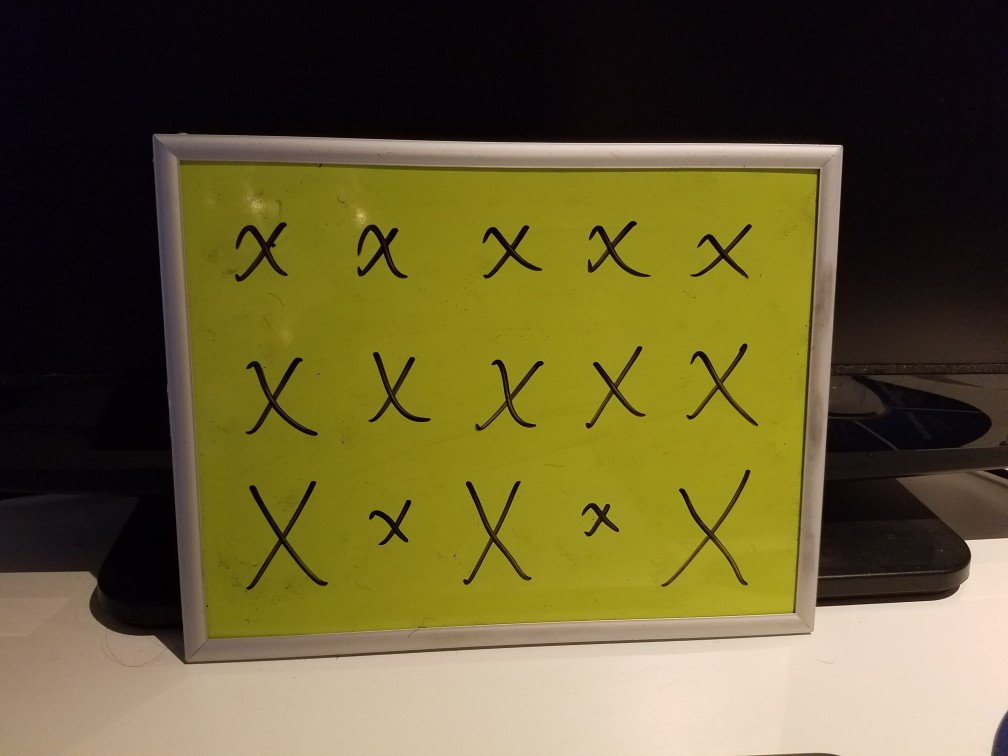x: (662, 459, 759, 595), (456, 475, 541, 589), (250, 474, 324, 595), (473, 350, 548, 440), (687, 339, 758, 432), (250, 348, 315, 445), (580, 339, 645, 429), (357, 342, 424, 427), (576, 213, 648, 286), (691, 218, 758, 291), (229, 207, 289, 285), (353, 213, 410, 281), (475, 222, 539, 276), (569, 488, 628, 545), (373, 494, 417, 552)
